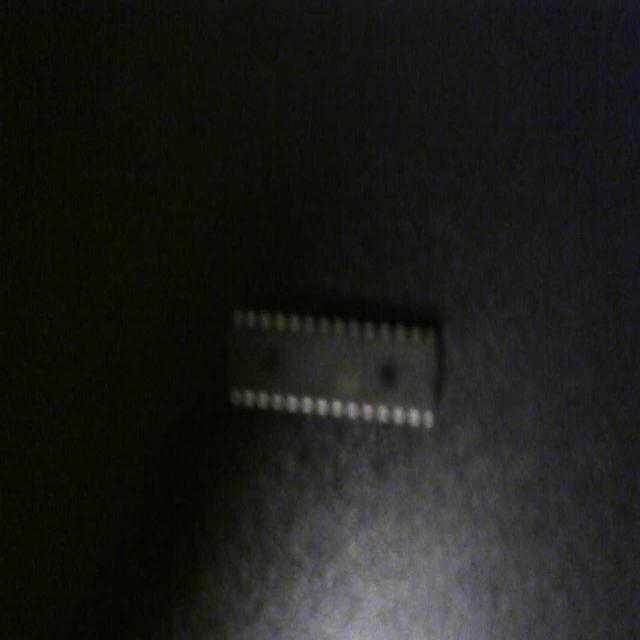atmega: (222, 292, 446, 436)
